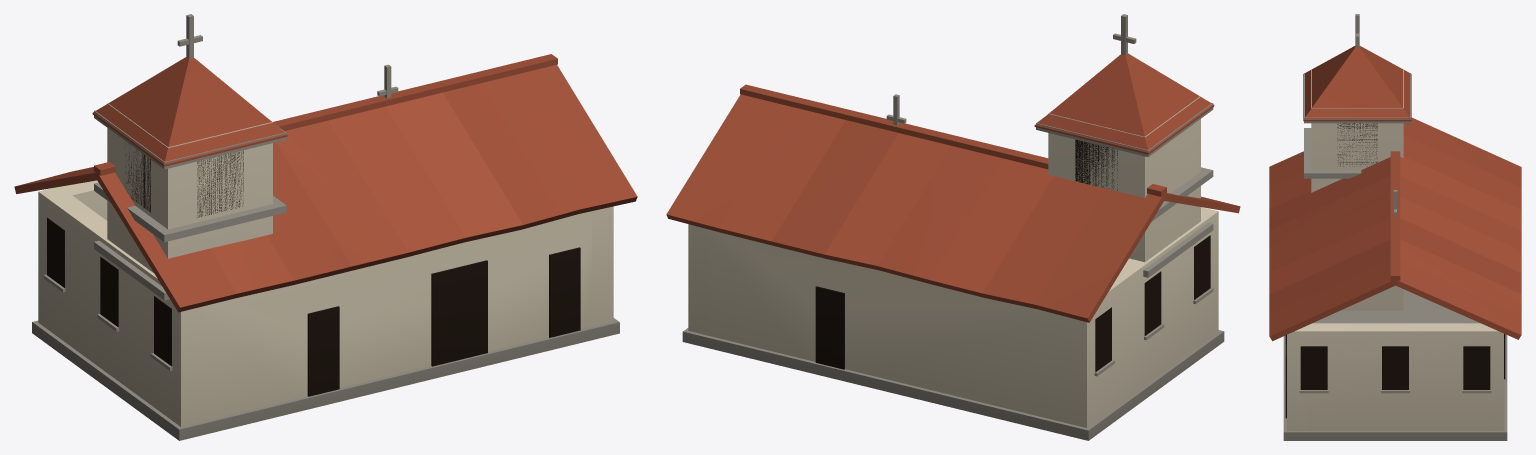
The model's file is independence_chapel_lod0.glb.
3 views of the same model, side by side, from view 1: azimuth 30°, elevation 25°; view 2: azimuth 150°, elevation 25°; view 3: azimuth 270°, elevation 25° (orthographic). The views are drawn at different scales.
Visible parts, largest first — view 1: GEO-Arch_independence_chapel_LOD0; view 2: GEO-Arch_independence_chapel_LOD0; view 3: GEO-Arch_independence_chapel_LOD0.
Part boxes in pixels (x1,y1,x2,y2): GEO-Arch_independence_chapel_LOD0: [14, 14, 637, 440]; GEO-Arch_independence_chapel_LOD0: [666, 14, 1240, 440]; GEO-Arch_independence_chapel_LOD0: [1269, 14, 1521, 440].
Bounding box in the file's own units: 14.8 × 11.6 × 9.3.
